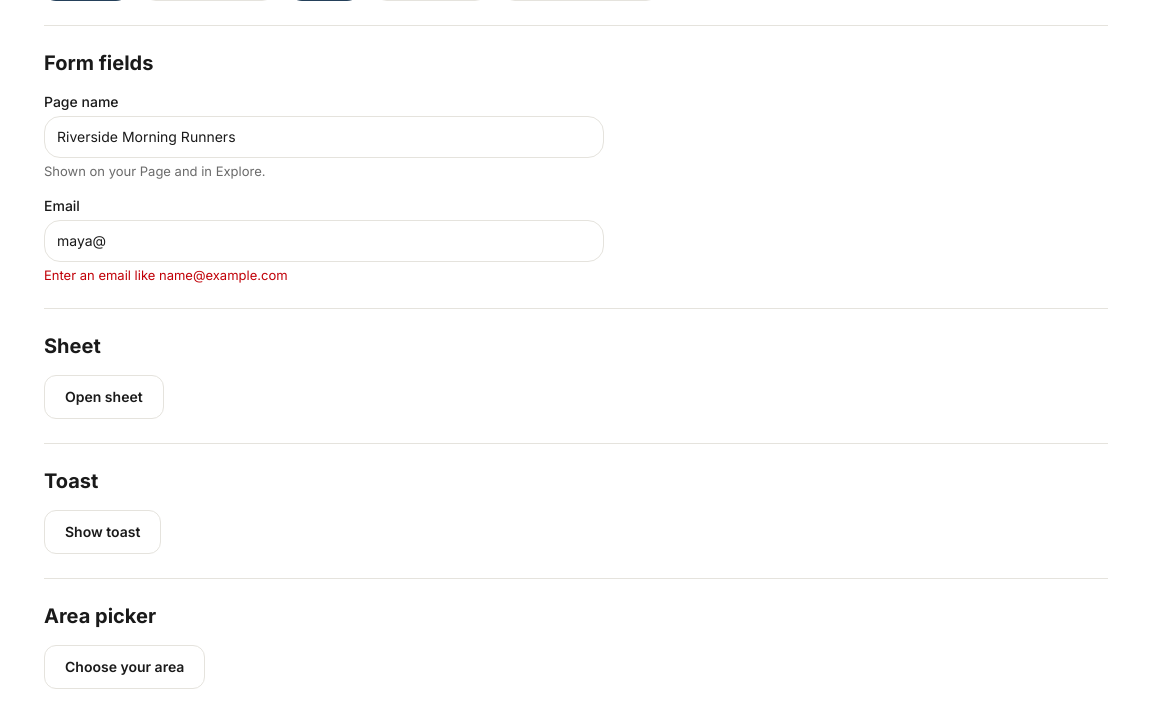
Test: #298 — playground › opens the sheet and shows the toast on demand
(page scrolled)
Click the button "Open sheet": (104, 397) x1=44 y1=375 x2=164 y2=419
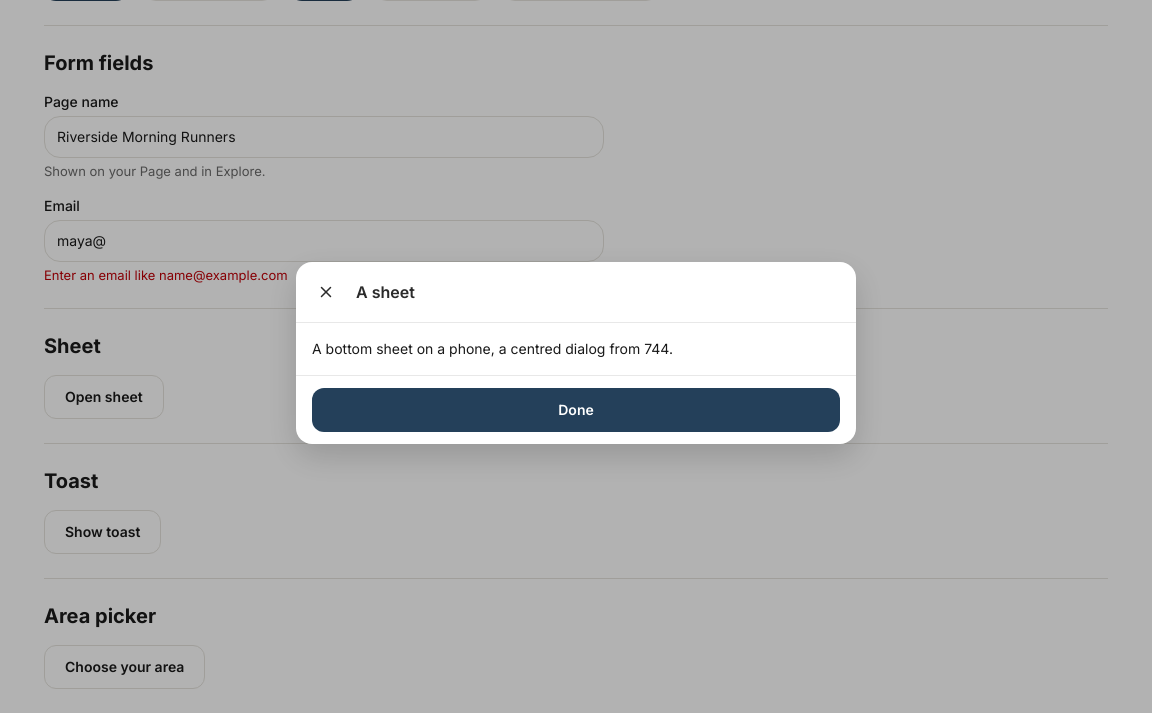
Expected: the dialog "A sheet" is shown, x1=296 y1=262 x2=856 y2=444
Click the button named "Close": (326, 292) x1=304 y1=270 x2=348 y2=314
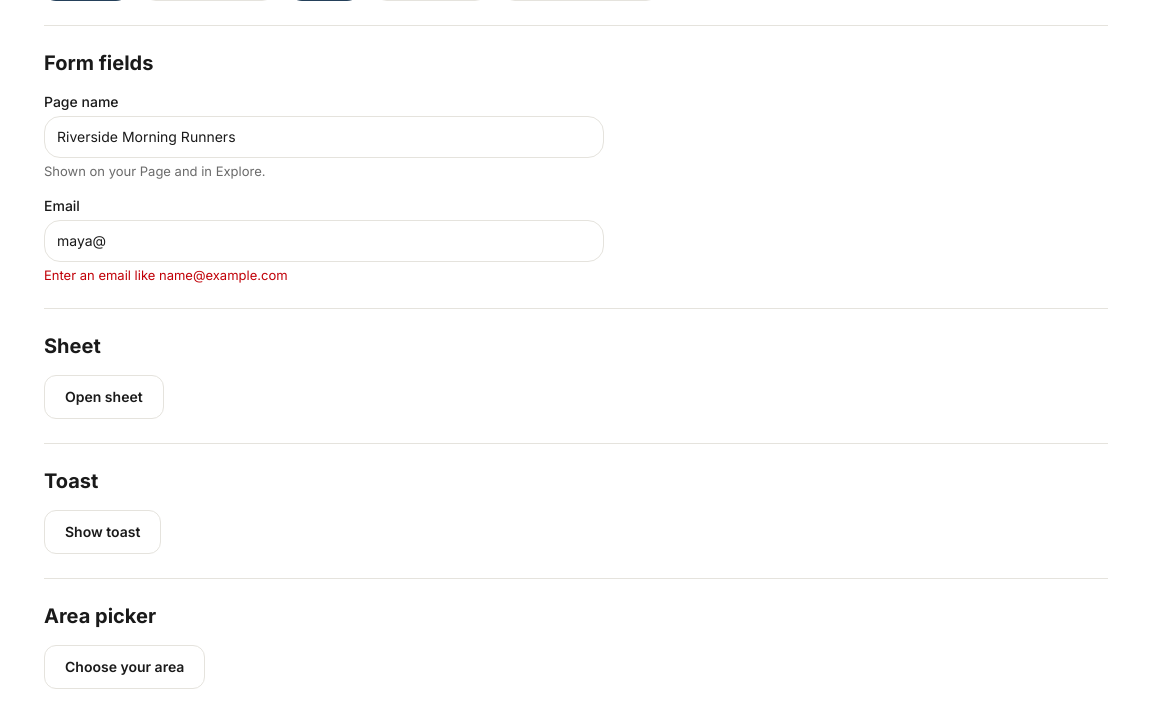
Click the button "Show toast": (103, 532) x1=44 y1=510 x2=161 y2=554
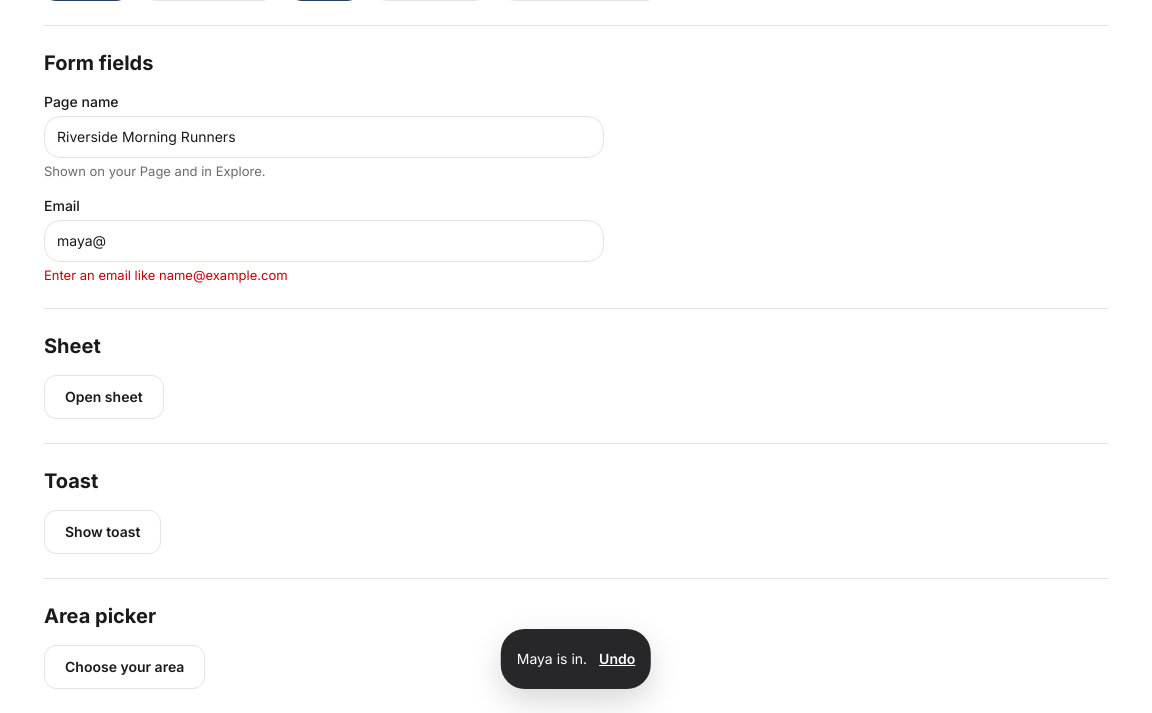
Expected: the message "Maya is in. Undo" is shown, x1=501 y1=629 x2=651 y2=689
